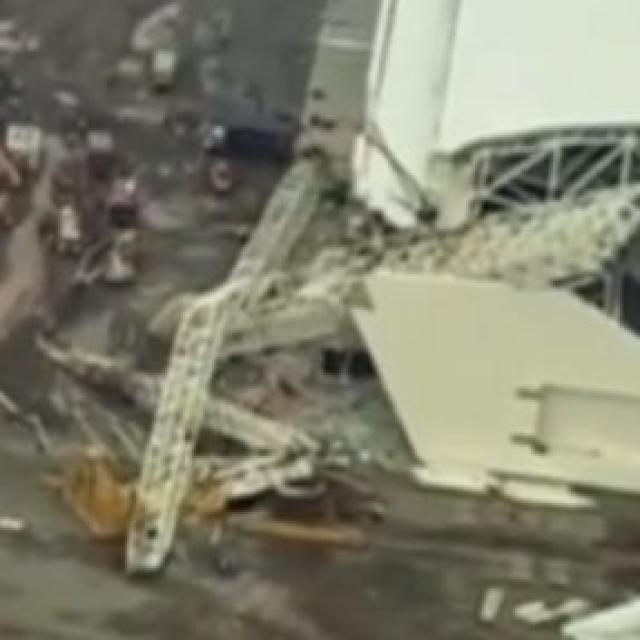collapsed_building: (321, 2, 638, 506)
